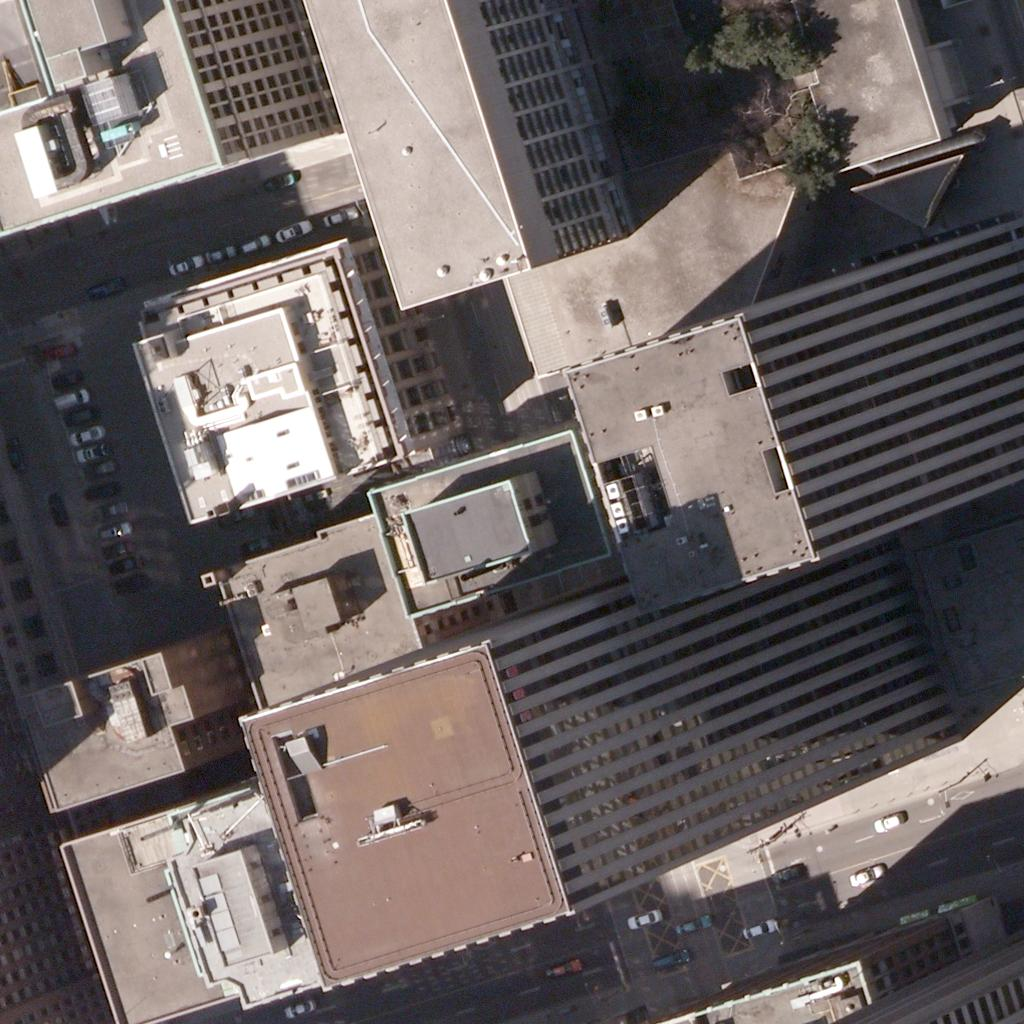car: (264, 163, 298, 197), (318, 200, 352, 234), (273, 213, 307, 247), (234, 227, 268, 261), (198, 237, 232, 271), (165, 250, 199, 284), (86, 274, 120, 308), (42, 334, 76, 368), (47, 362, 81, 396), (51, 380, 85, 414), (62, 398, 96, 432), (65, 418, 99, 452), (75, 437, 109, 471), (82, 452, 116, 486), (87, 472, 121, 506), (38, 493, 72, 527), (95, 493, 129, 527), (215, 498, 249, 532), (98, 514, 132, 548), (243, 527, 277, 561), (101, 531, 135, 565), (105, 547, 139, 581), (867, 806, 901, 840), (848, 855, 882, 889), (770, 857, 804, 891), (625, 901, 659, 935), (674, 907, 708, 941), (741, 911, 775, 945), (651, 942, 685, 976), (547, 952, 581, 986), (281, 992, 315, 1024), (0, 438, 29, 472)
